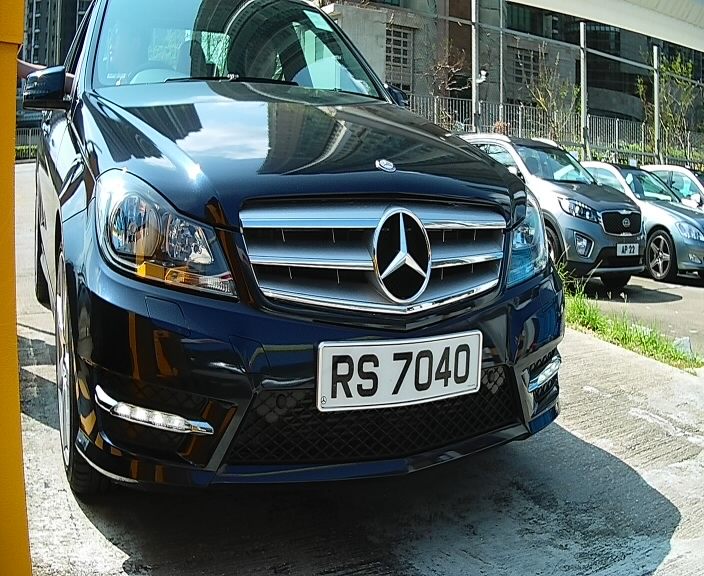Car: (14, 2, 571, 560)
License Plate: (308, 326, 487, 423)
